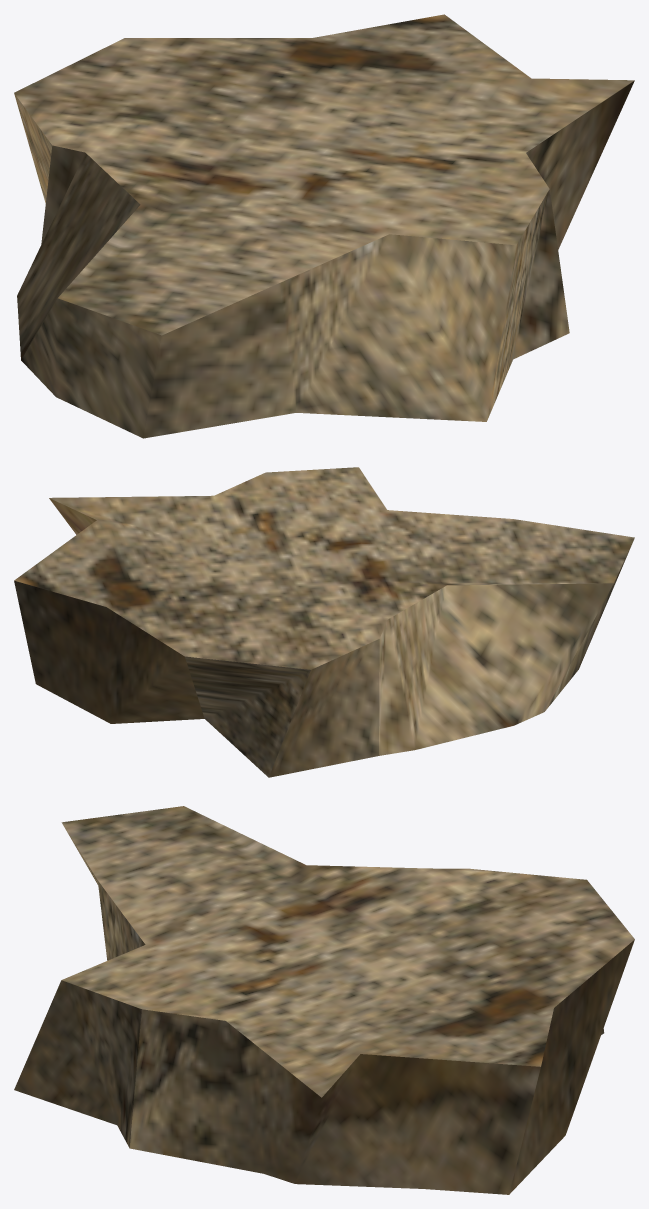
File: ConSlab2.FBX
The picture shows the model from 3 angles, top to bottom: view 1: azimuth 30°, elevation 25°; view 2: azimuth 150°, elevation 25°; view 3: azimuth 270°, elevation 25°; orthographic projection. The views are drawn at different scales.
Parts seen in each view (by area): view 1: Box01; view 2: Box01; view 3: Box01.
Part boxes in pixels (left/top/right/bottom): Box01: left=14, top=14, right=634, bottom=438; Box01: left=14, top=467, right=634, bottom=777; Box01: left=14, top=806, right=634, bottom=1194.
Bounding box in the file's own units: 0.7165 × 0.1622 × 0.6344.
